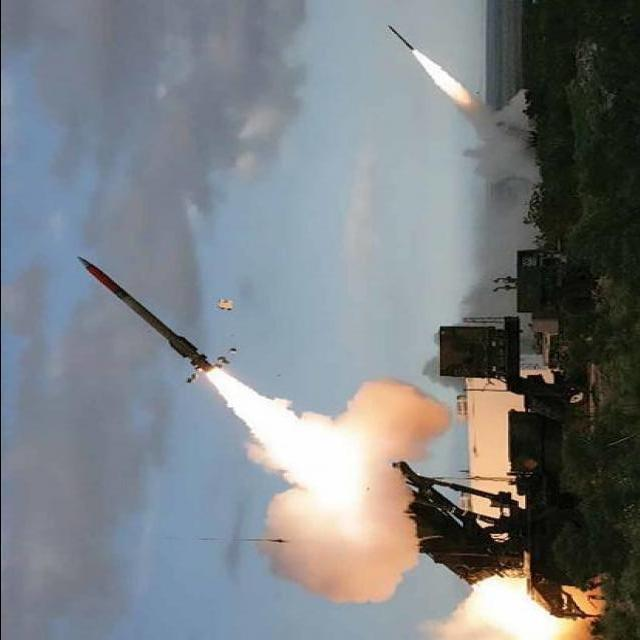missile: (73, 242, 227, 378)
